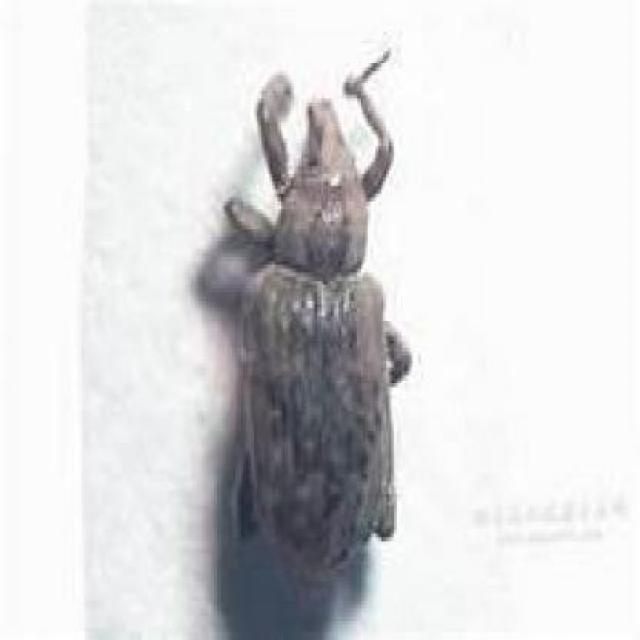rice-bug: (212, 56, 419, 575)
